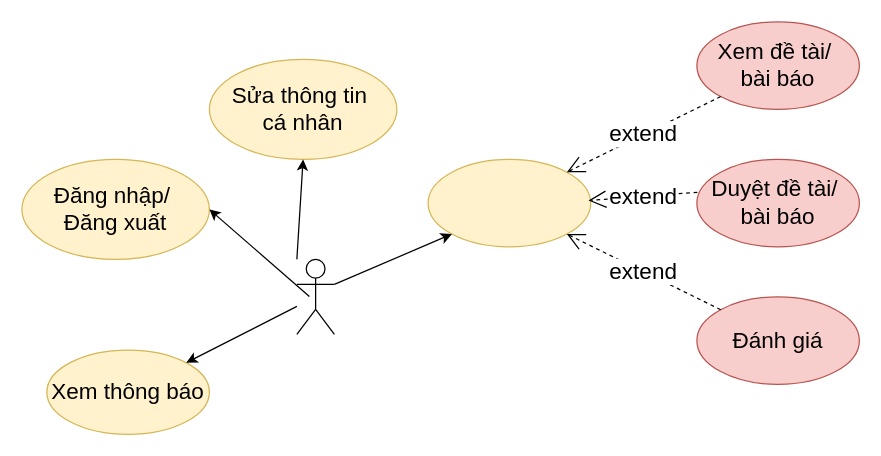
The diagram is 881 pixels wide and 456 high, and some of its shapes have lost their labels. Here are the shapes that lost their labels. From the top down, the centre of each, then its label:
At (x=509, y=202): "Đề tài/ bài báo".
At (x=315, y=296): "Giảng viên".
